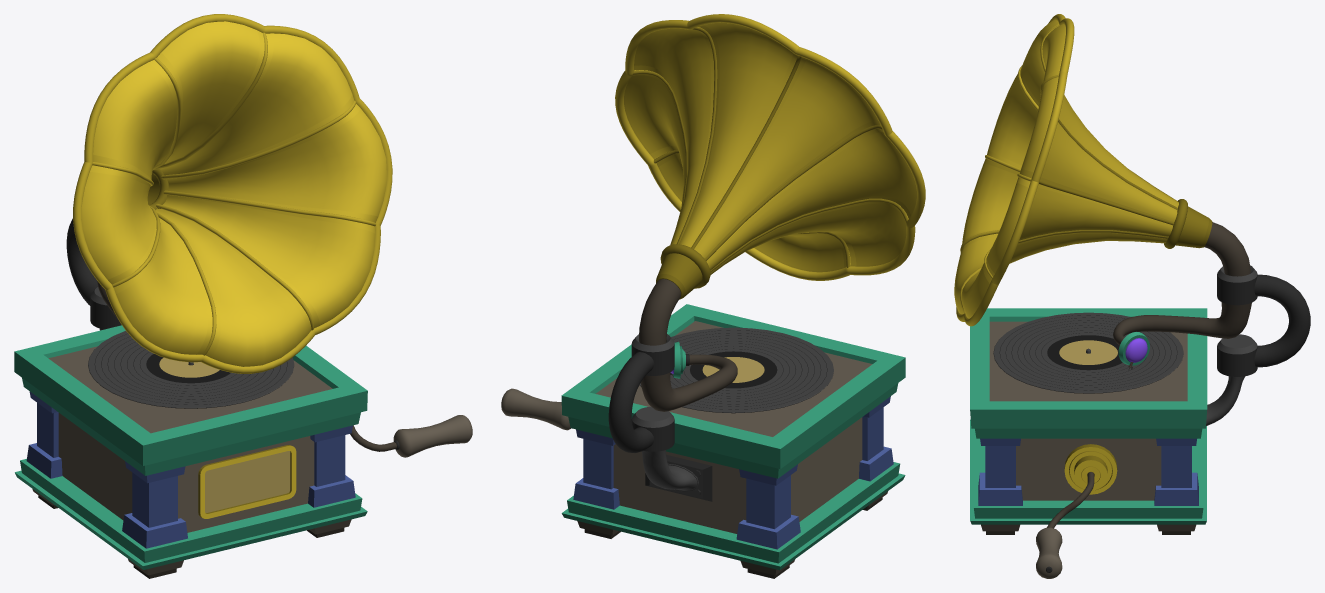
The model's file is gramophone.glb.
3 views of the same model, side by side, from view 1: azimuth 30°, elevation 25°; view 2: azimuth 150°, elevation 25°; view 3: azimuth 270°, elevation 25° (orthographic). The views are drawn at different scales.
Parts seen in each view (by area): view 1: Cylinder_0, Cube.006_24, Cube.004_3, Cylinder.003_18, Cube.001_23, Cylinder.009_22, Cylinder.007_21, Cube.003_19, Point.002_20, Cube.005_4, NurbsPath_6, Cylinder.010_10; view 2: Cylinder_0, Cube.006_24, Cube.004_3, Cylinder.003_18, Cube.001_23, Cylinder.009_22, Cylinder.004_25, NurbsPath_6, NurbsPath.005_14, NurbsPath.004_13, Point.002_20, NurbsPath.002_11 (+5 smaller); view 3: Cylinder_0, Cube.006_24, Cube.004_3, Cylinder.003_18, Cube.001_23, Cylinder.009_22, NurbsPath_6, NurbsPath.005_14, Cube.002_2, Cylinder.004_25, Cylinder.010_10, NurbsPath.004_13 (+8 smaller).
Part boxes in pixels (x1,y1,x2,y2): Cylinder_0: [81, 21, 386, 366]; Cube.006_24: [14, 325, 367, 569]; Cube.004_3: [32, 346, 351, 578]; Cylinder.003_18: [88, 331, 294, 408]; Cube.001_23: [26, 391, 355, 548]; Cylinder.009_22: [73, 14, 392, 373]; Cylinder.007_21: [92, 32, 375, 355]; Cube.003_19: [205, 451, 290, 512]; Point.002_20: [393, 415, 472, 457]; Cube.005_4: [198, 445, 296, 518]; NurbsPath_6: [66, 218, 97, 305]; Cylinder.010_10: [90, 287, 121, 329]; Cylinder_0: [624, 22, 916, 274]; Cube.006_24: [561, 304, 905, 570]; Cube.004_3: [577, 321, 887, 578]; Cylinder.003_18: [639, 327, 833, 413]; Cube.001_23: [573, 396, 893, 549]; Cylinder.009_22: [615, 14, 925, 280]; Cylinder.004_25: [633, 27, 908, 272]; NurbsPath_6: [608, 352, 654, 452]; NurbsPath.005_14: [640, 354, 737, 411]; NurbsPath.004_13: [639, 279, 680, 345]; Point.002_20: [501, 388, 570, 430]; NurbsPath.002_11: [642, 450, 697, 490]; Cylinder_0: [954, 19, 1178, 318]; Cube.006_24: [970, 308, 1207, 524]; Cube.004_3: [981, 321, 1196, 534]; Cylinder.003_18: [993, 312, 1183, 393]; Cube.001_23: [978, 438, 1198, 505]; Cylinder.009_22: [956, 14, 1074, 326]; NurbsPath_6: [1254, 274, 1310, 367]; NurbsPath.005_14: [1113, 302, 1251, 345]; Cube.002_2: [1064, 444, 1117, 494]; Cylinder.004_25: [1018, 119, 1177, 242]; Cylinder.010_10: [1217, 334, 1257, 376]; NurbsPath.004_13: [1204, 222, 1250, 276].
Bounding box in the file's own units: 6.25 × 7.28 × 5.05.
